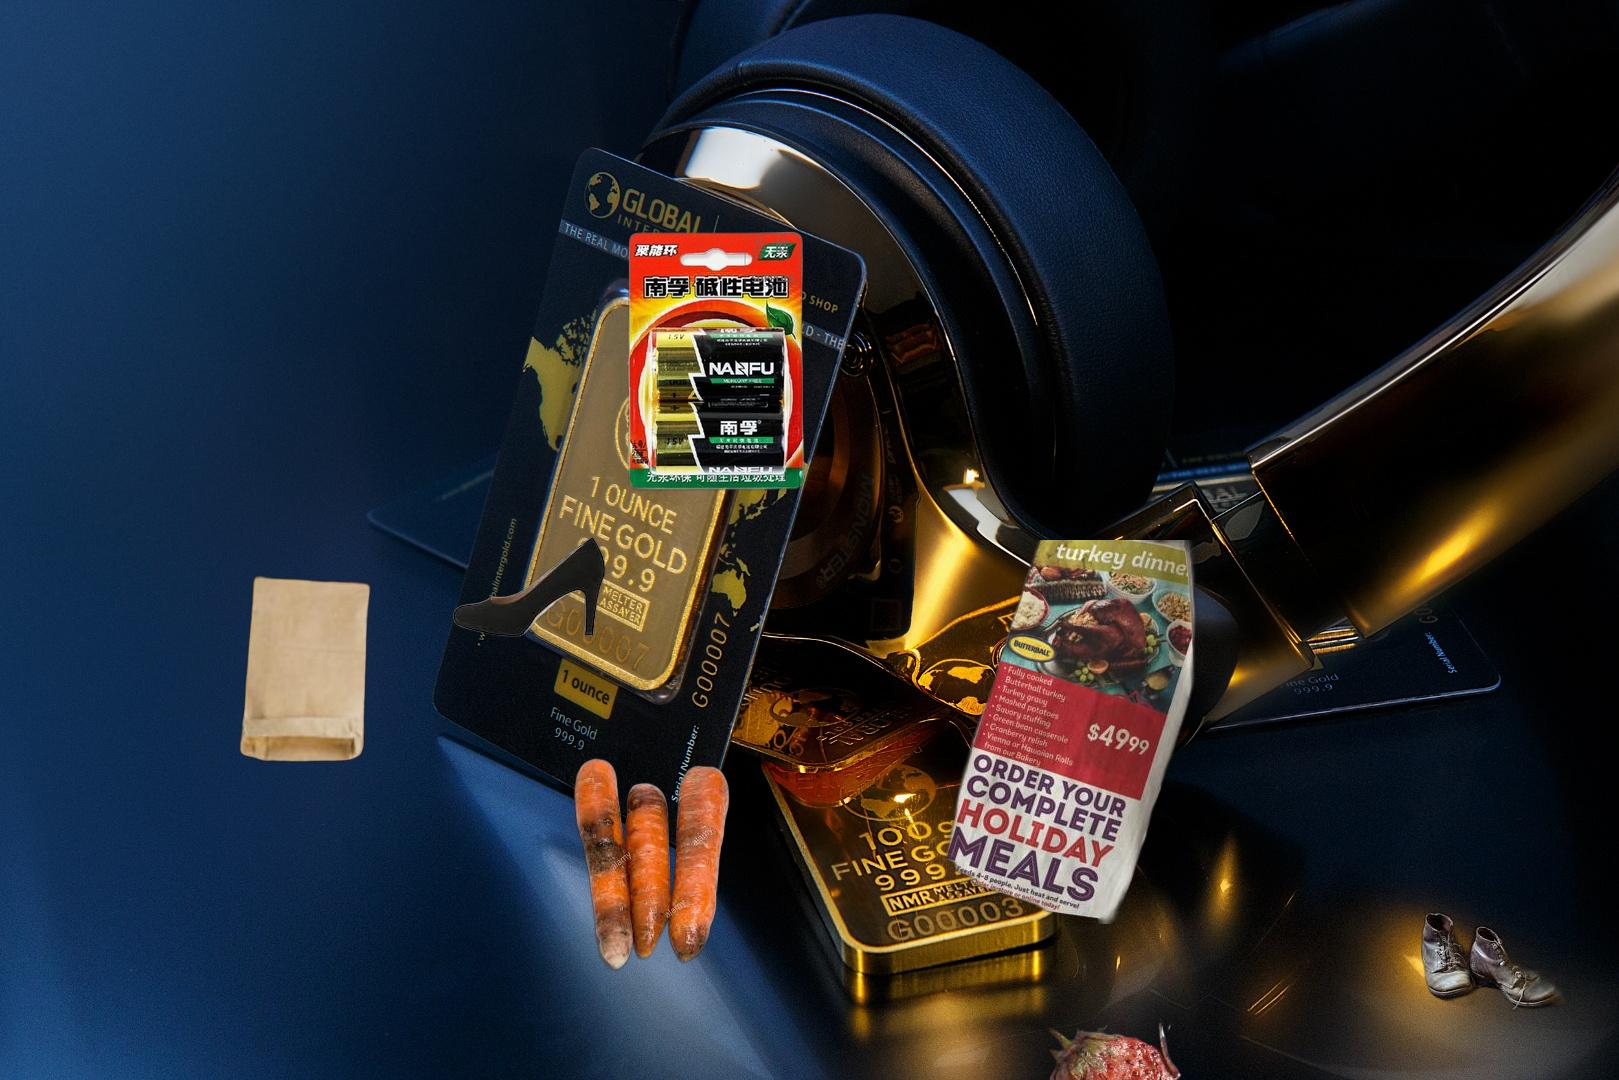battery: (625, 228, 807, 492)
biological: (571, 755, 732, 973), (1002, 995, 1200, 1080)
paper: (721, 540, 1207, 924)
paper-bag: (237, 571, 379, 765)
shoes: (1418, 909, 1571, 1017), (450, 535, 608, 639)
